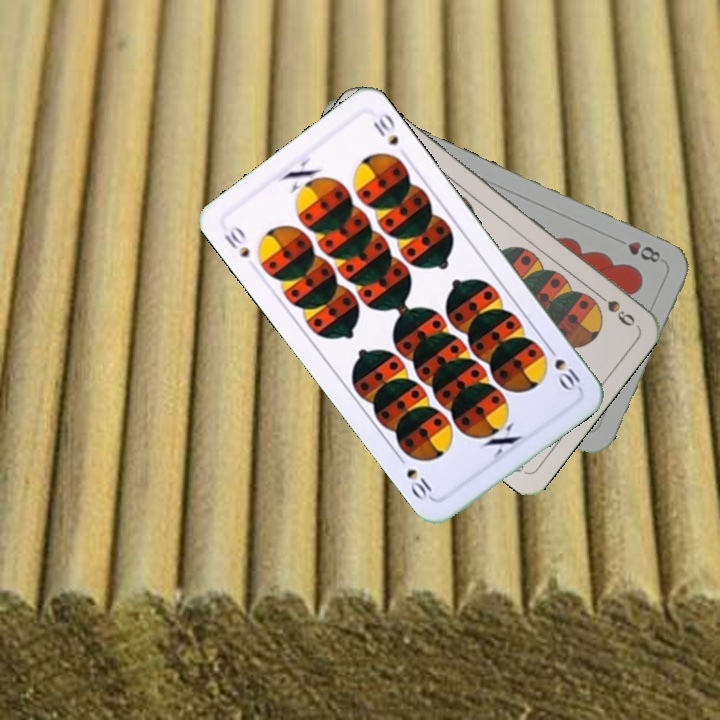H8: (623, 237, 666, 265)
S10: (543, 341, 583, 394), (219, 222, 253, 261)
S9: (588, 286, 638, 329)
